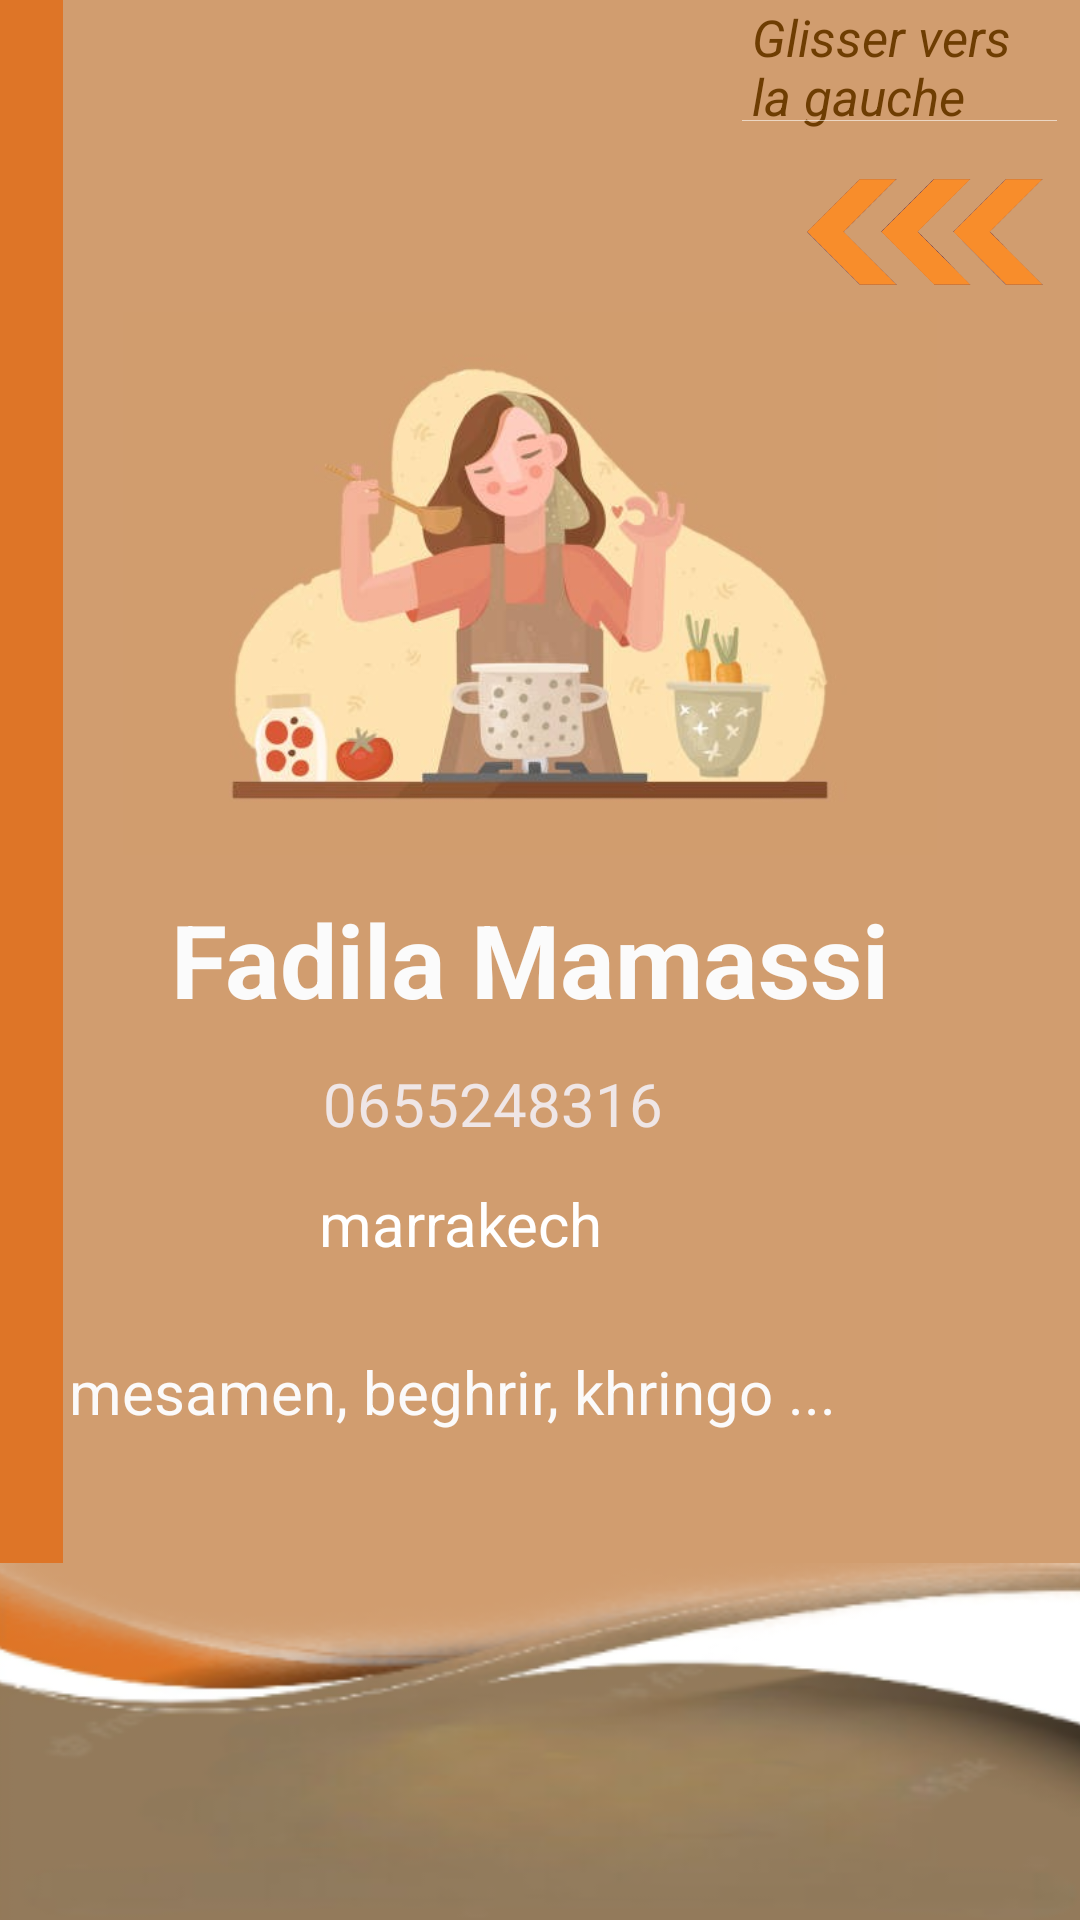

Icons on this 1080×1920 Android screen, each with its box as {"left": x1, "top": y1, "right": x2, "bottom": y2}:
flecheicoone: {"left": 807, "top": 179, "right": 1043, "bottom": 285}
